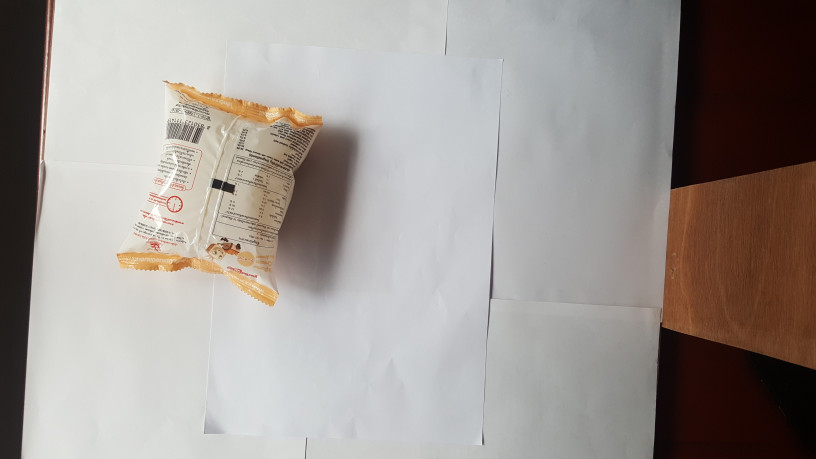farmhouse-sweetsandwich-almond: (104, 70, 330, 313)
